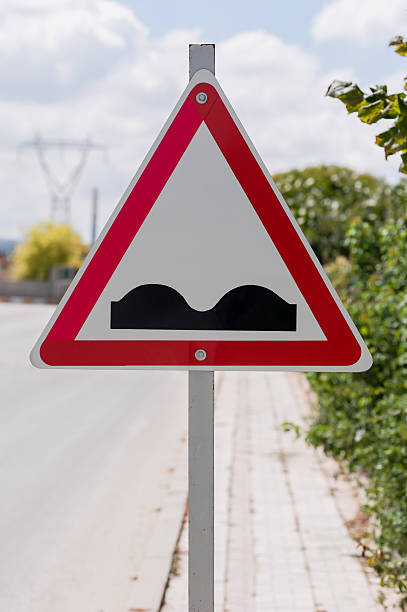speed-breaker: (38, 80, 362, 369)
